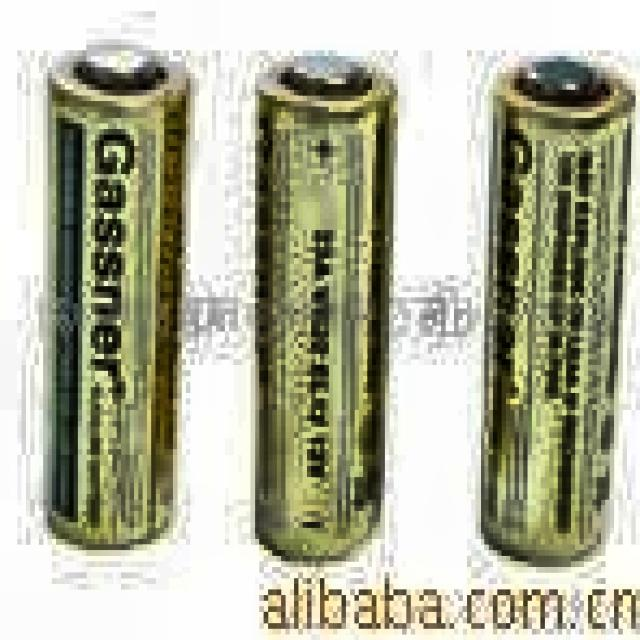Non-Valuable Waste - Batteries: (481, 57, 634, 562), (257, 57, 395, 558), (50, 52, 187, 547)
